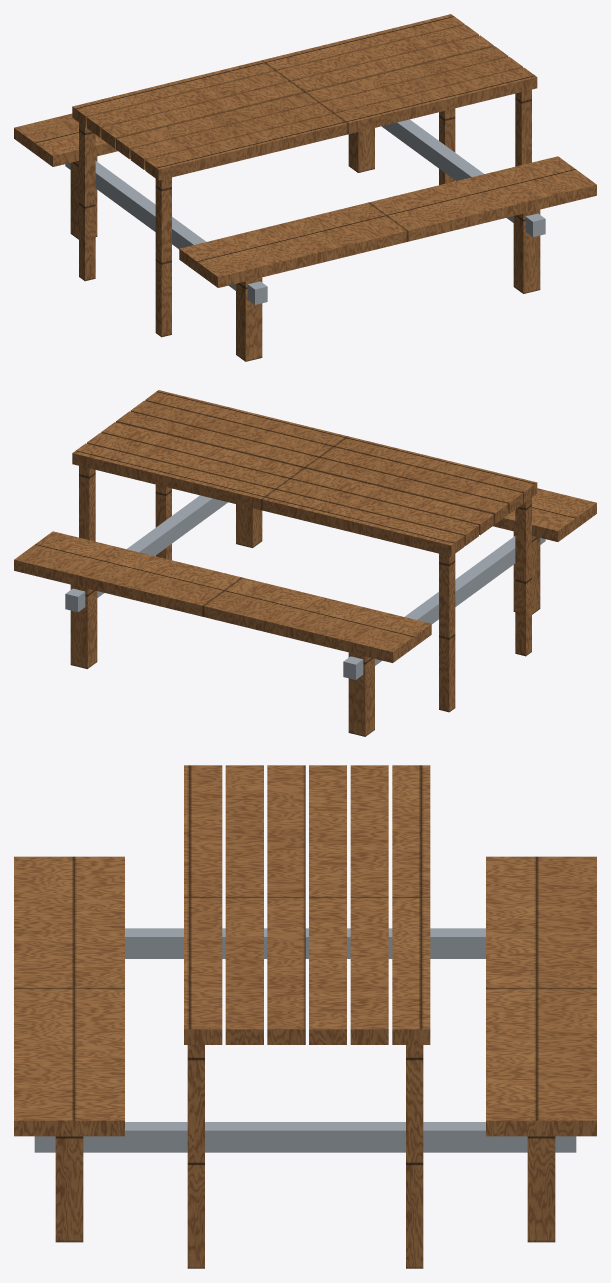
File: Piknikasztal_padokkal.obj
The picture shows the model from 3 angles, top to bottom: view 1: azimuth 30°, elevation 25°; view 2: azimuth 150°, elevation 25°; view 3: azimuth 270°, elevation 25°; orthographic projection. The views are drawn at different scales.
Size of the model in its own units: 1.8 by 0.77 by 1.68.
2 materials, 1 textured.
